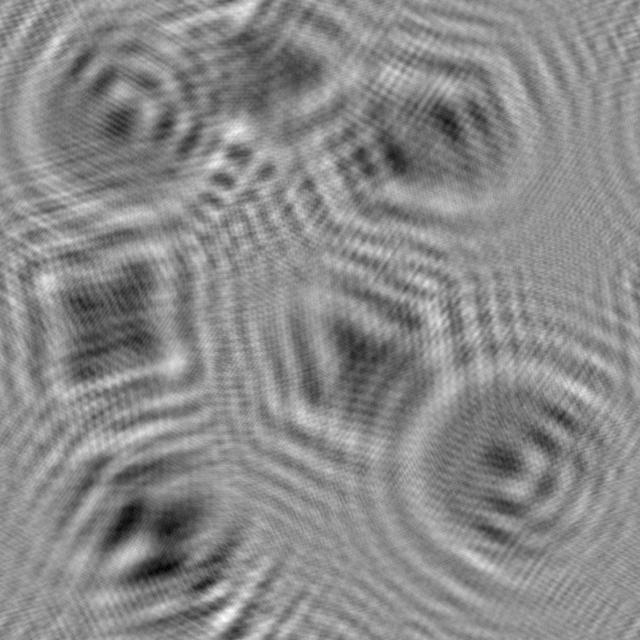U: (377, 327, 640, 596), (0, 0, 244, 242)
V: (209, 206, 487, 483)
W: (0, 408, 300, 640)
X: (0, 206, 247, 426)
Y: (114, 0, 394, 177)
Z: (277, 0, 564, 263)
